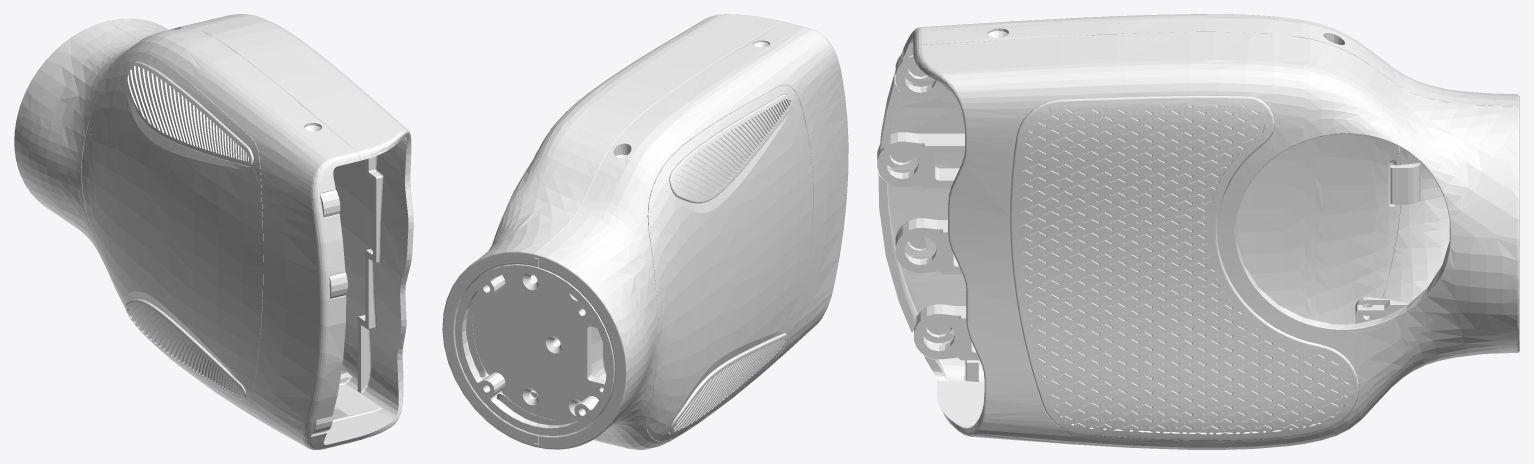
Rendered from rh_hand_base_link_vis.obj.
3 renders of one model, left to right at view 1: azimuth 30°, elevation 25°; view 2: azimuth 150°, elevation 25°; view 3: azimuth 270°, elevation 25°, orthographic. The views are drawn at different scales.
Parts seen in each view (by area): view 1: rh_hand_base_link; view 2: rh_hand_base_link; view 3: rh_hand_base_link.
Boxes of the visible parts, box(x1,y1,x2,y2) form: rh_hand_base_link: box(14, 14, 413, 449); rh_hand_base_link: box(442, 14, 848, 449); rh_hand_base_link: box(877, 14, 1519, 449).
Size of the model in its own units: 0.064 by 0.1049 by 0.1588.
Materials: 1 (1 with a texture image).
